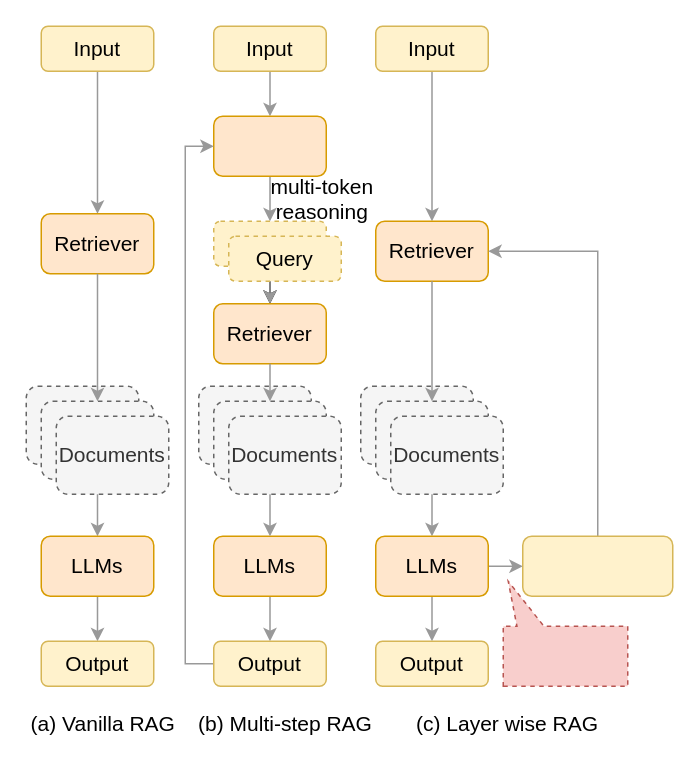
Some shapes in this 699 by 773 pixel diagram are drawn without their labels. The centre of each missing label's shape, as x and y in pixels:
"Intermediate Representation" goes at (597,565).
"Rewriter" goes at (269,145).
"single-token reasoning" goes at (565,633).
